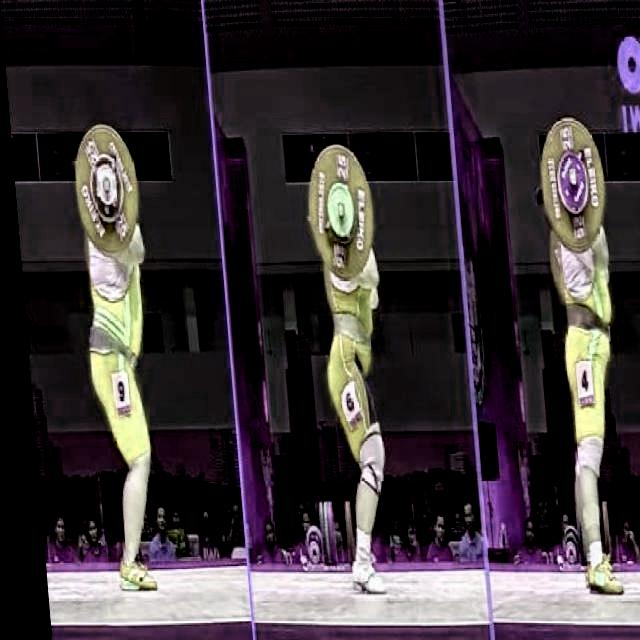barbell: (527, 111, 612, 257), (296, 138, 375, 283), (65, 118, 143, 257)
